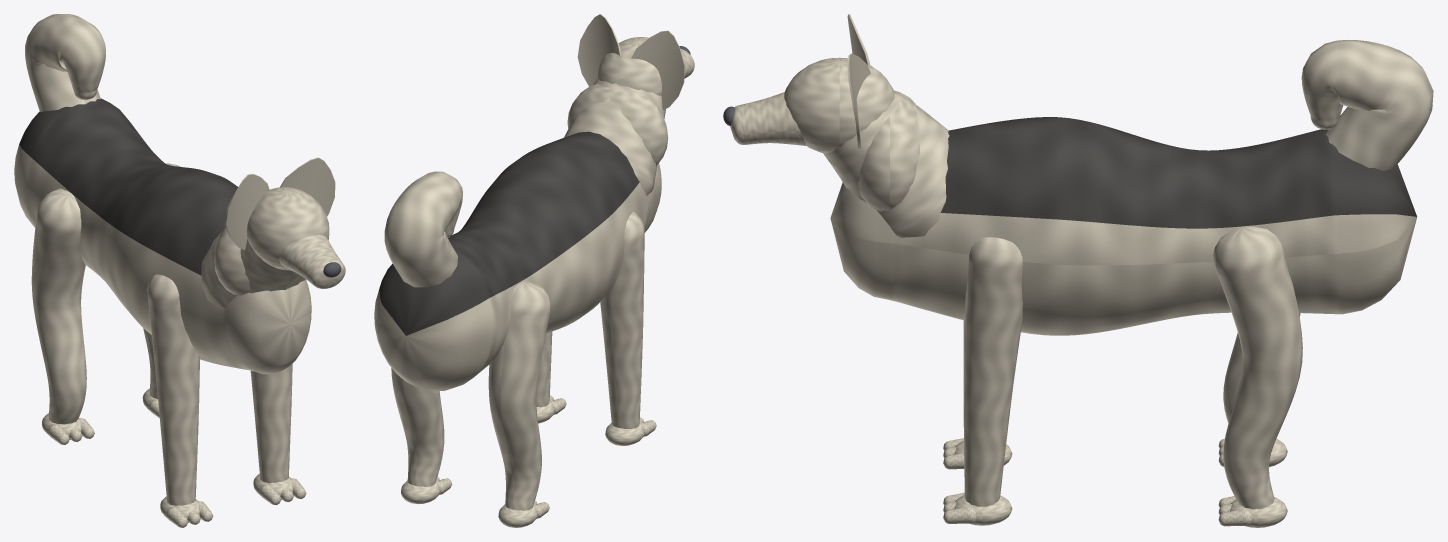
File: pet-dog.glb
The picture shows the model from 3 angles, left to right: view 1: azimuth 30°, elevation 25°; view 2: azimuth 150°, elevation 25°; view 3: azimuth 270°, elevation 25°; orthographic projection. The views are drawn at different scales.
Parts seen in each view (by area): view 1: siberian-husky-black-and-white; view 2: siberian-husky-black-and-white; view 3: siberian-husky-black-and-white.
Boxes of the visible parts, <box> form: siberian-husky-black-and-white: <box>14,14,345,527</box>; siberian-husky-black-and-white: <box>374,14,694,527</box>; siberian-husky-black-and-white: <box>723,14,1433,527</box>.
Size of the model in its own units: 0.2933 by 0.7064 by 0.988.
Materials: 3 (2 with a texture image).
